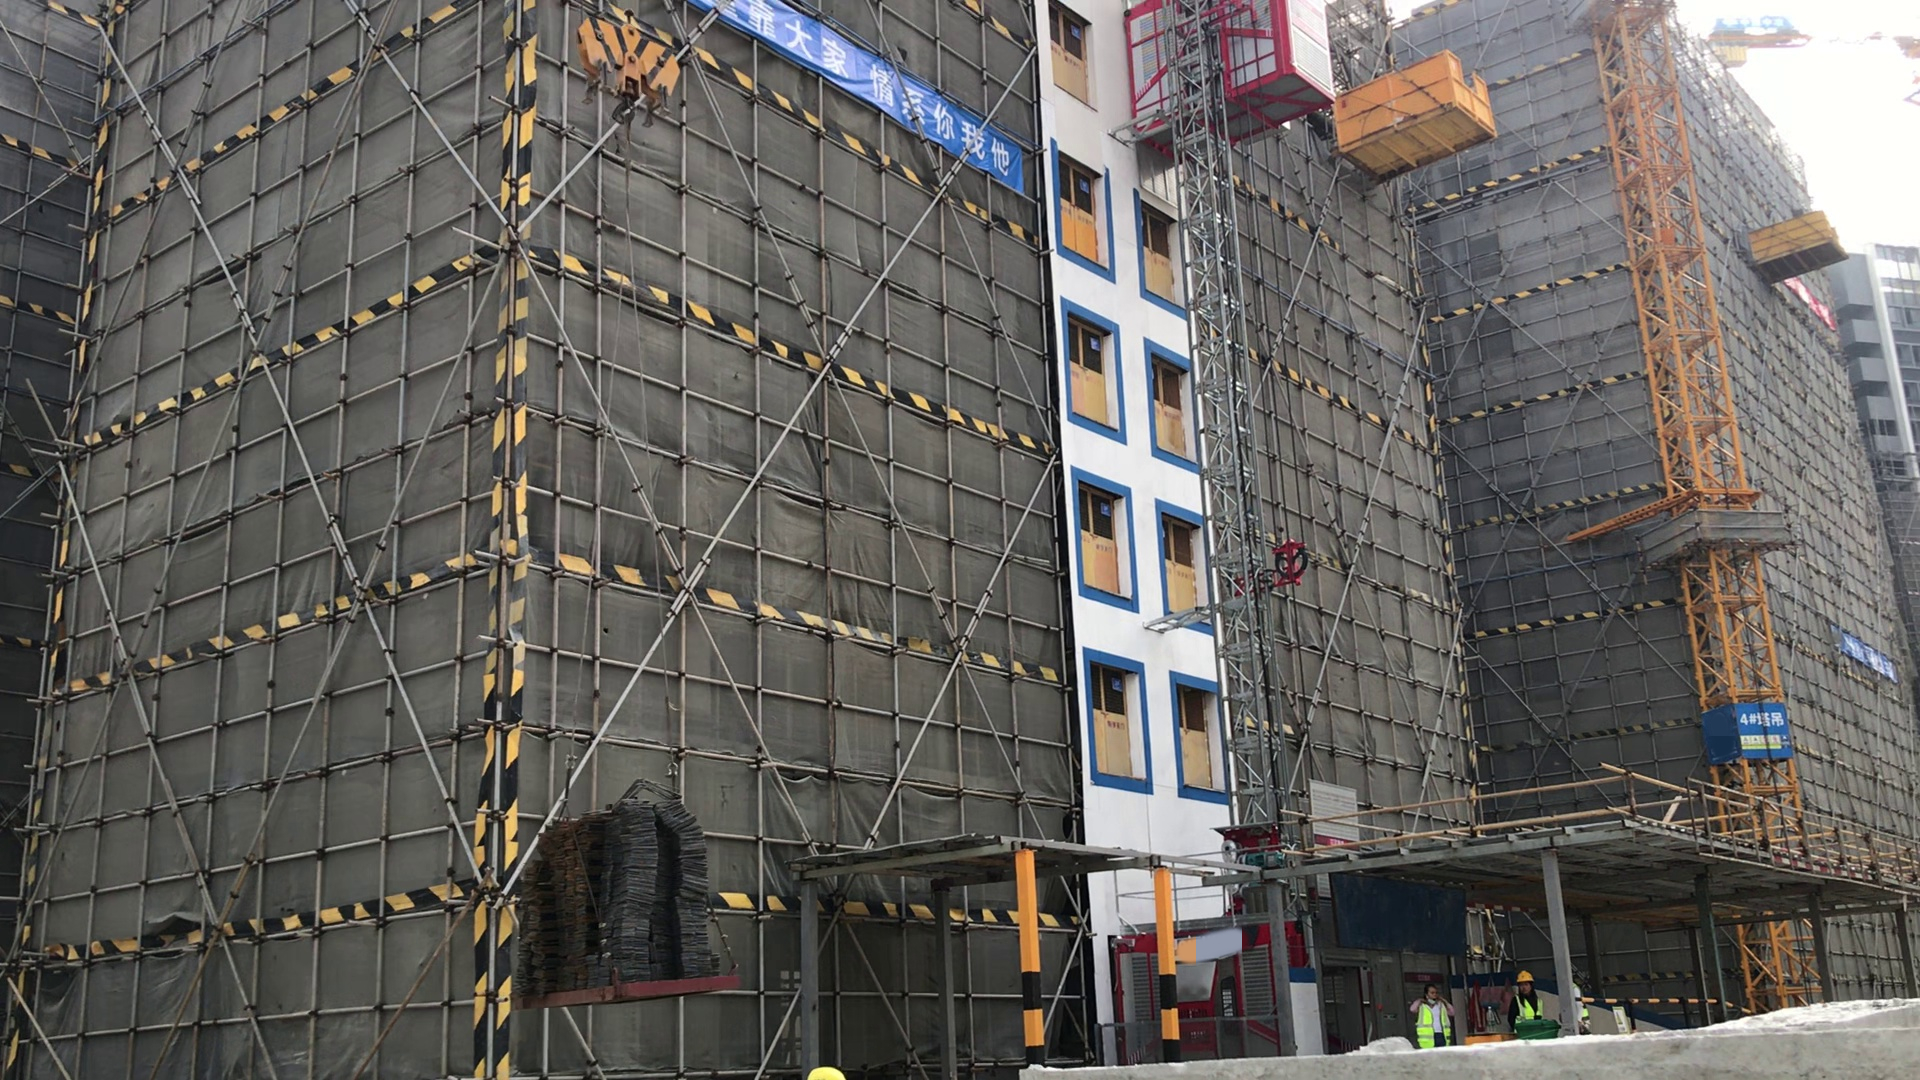helmet: (800, 1058, 842, 1080), (1517, 970, 1533, 983)
hook: (575, 10, 681, 131)
person: (1408, 982, 1460, 1057), (1508, 968, 1551, 1028), (1575, 980, 1595, 1032)
slogan: (689, 3, 1022, 182)
vest: (1415, 1000, 1452, 1049), (1513, 993, 1543, 1025)
